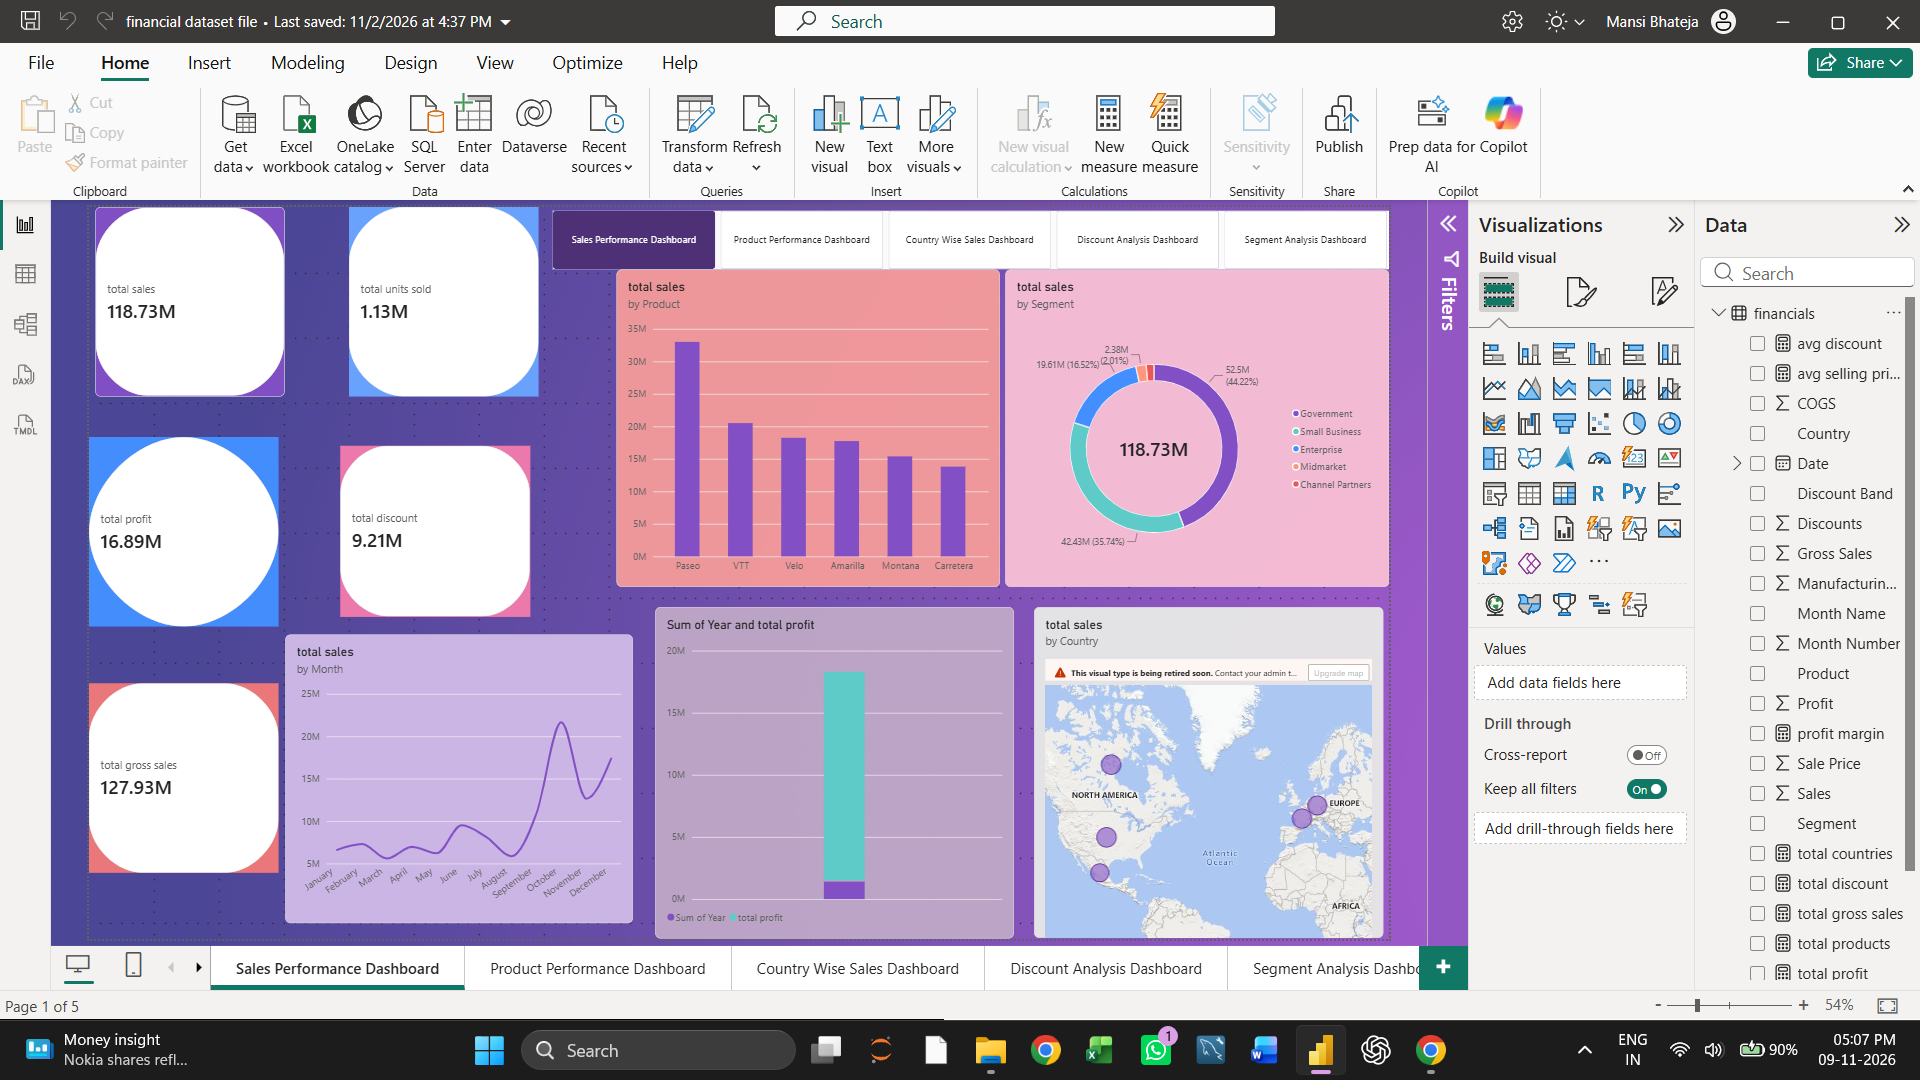

This screenshot's page, from the dashboard's own definition file:
{"tool":"powerbi","page":{"name":"Sales Performance Dashboard","canvas":[1920,1080],"ordinal":0},"visuals":[{"type":"cardVisual","fields":{"Data":["financials.total sales"]},"box":[10,0,280,280],"z":0},{"type":"cardVisual","fields":{"Data":["financials.total profit"]},"box":[0,339.7,280,280],"z":1},{"type":"cardVisual","fields":{"Data":["financials.total gross sales"]},"box":[0,703.4,280,280],"z":2},{"type":"cardVisual","fields":{"Data":["financials.total discount"]},"box":[371.1,352.6,280.6,252.9],"z":3},{"type":"cardVisual","fields":{"Data":["financials.total units sold"]},"box":[384,0,280,280],"z":4},{"type":"lineChart","fields":{"Category":["financials.Date.Variation.Date Hierarchy.Month","financials.Date.Variation.Date Hierarchy.Day"],"Y":["financials.total sales"]},"box":[289.8,631.4,513.2,426.5],"z":5},{"type":"columnChart","fields":{"Category":["financials.Product"],"Y":["financials.total sales"]},"box":[779.1,92.3,566.8,468.9],"z":6},{"type":"donutChart","fields":{"Category":["financials.Segment"],"Y":["financials.total sales"]},"box":[1353.2,92.3,567,469],"z":7},{"type":"columnChart","fields":{"Y":["Sum(financials.Year)","financials.total profit"]},"box":[836.3,590.8,529.8,489.2],"z":8},{"type":"map","fields":{"Category":["financials.Country"],"Size":["financials.total sales"]},"box":[1396,591,516,489],"z":9},{"type":"pageNavigator","box":[684.9,5.5,1235.1,86.8],"z":10}]}

Visuals, with their boxes on the page's 1920x1080 design canvas (x1, y1, x2, y2). These are canvas units, not pixel positions in the 1920x1080 screenshot, which may show the page scaled, cropped or inside an application window:
cardVisual - financials.total sales: box=[10, 0, 290, 280]
cardVisual - financials.total profit: box=[0, 340, 280, 620]
cardVisual - financials.total gross sales: box=[0, 703, 280, 983]
cardVisual - financials.total discount: box=[371, 353, 652, 606]
cardVisual - financials.total units sold: box=[384, 0, 664, 280]
lineChart - financials.Date.Variation.Date Hierarchy.Month x financials.Date.Variation.Date Hierarchy.Day: box=[290, 631, 803, 1058]
columnChart - financials.Product x financials.total sales: box=[779, 92, 1346, 561]
donutChart - financials.Segment x financials.total sales: box=[1353, 92, 1920, 561]
columnChart - Sum(financials.Year) x financials.total profit: box=[836, 591, 1366, 1080]
map - financials.Country x financials.total sales: box=[1396, 591, 1912, 1080]
pageNavigator: box=[685, 6, 1920, 92]
